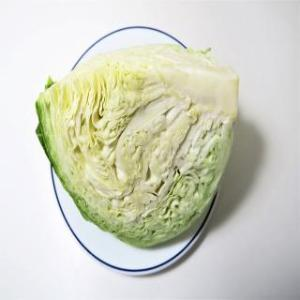cabbage: (35, 42, 241, 250)
